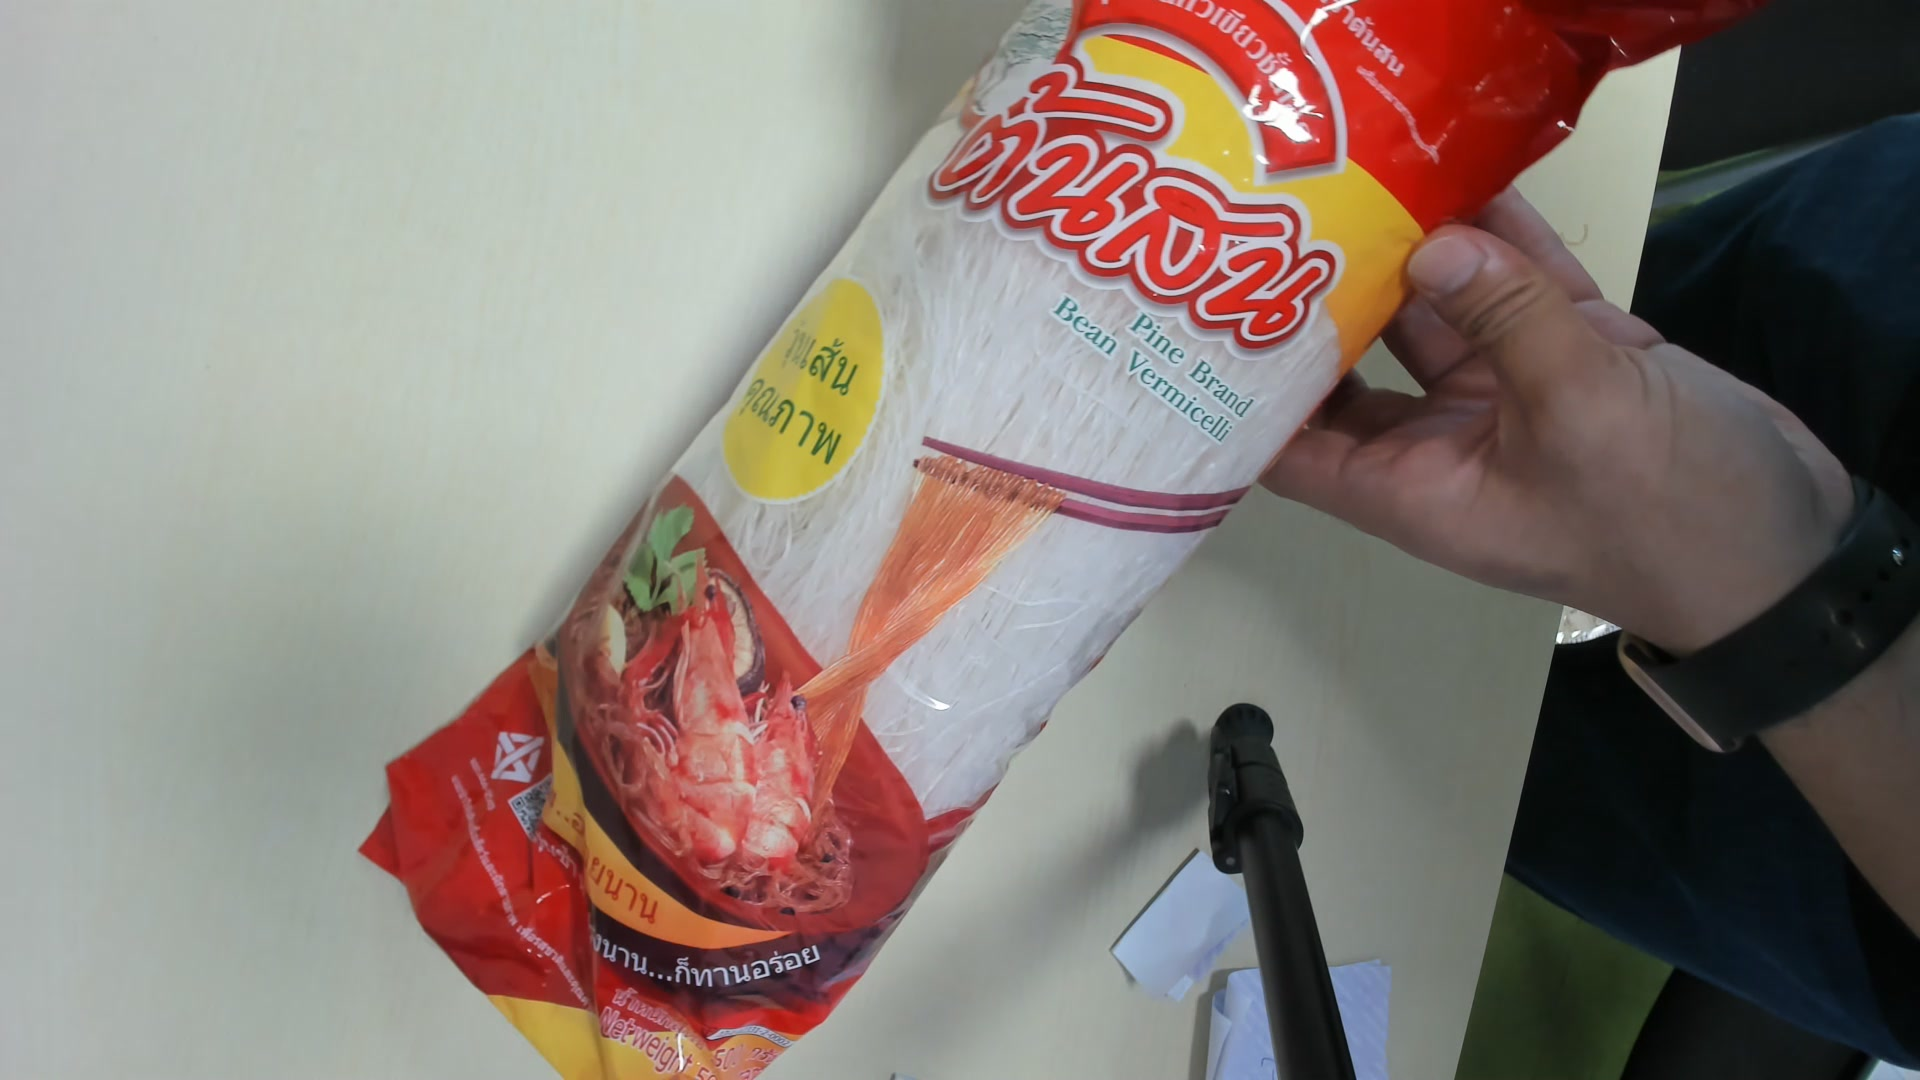BeeHoonVermicelli_500-599g_Halal_NonHealthy: (372, 9, 1716, 1080)
